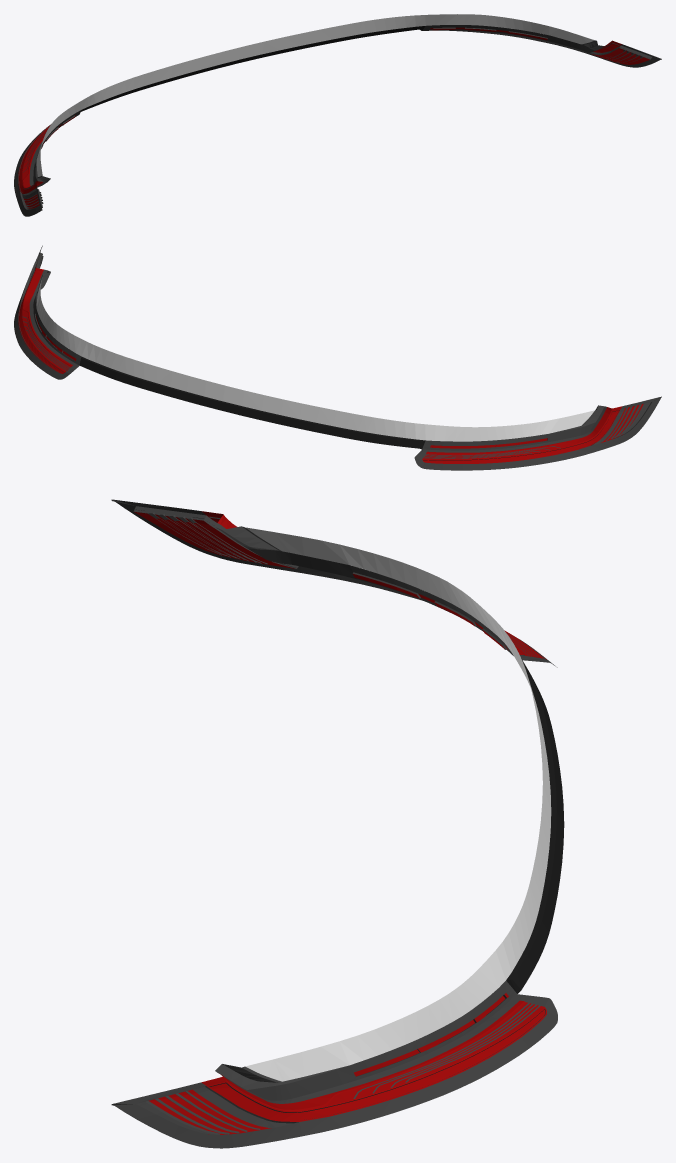
Rendered from fascia_mid.glb.
The picture shows the model from 3 angles, top to bottom: view 1: azimuth 30°, elevation 25°; view 2: azimuth 150°, elevation 25°; view 3: azimuth 270°, elevation 25°; orthographic projection. The views are drawn at different scales.
Parts seen in each view (by area): view 1: TwiXeR_992_fascia_mid_TwiXeR_992_taillight_running.001_0, TwiXeR_992_fascia_mid_TwiXeR_992_plastic_smooth.001_0, TwiXeR_992_fascia_mid_TwiXeR_992_brakelight_1.002_0, TwiXeR_992_fascia_mid_TwiXeR_992_chrome.003_0; view 2: TwiXeR_992_fascia_mid_TwiXeR_992_taillight_running.001_0, TwiXeR_992_fascia_mid_TwiXeR_992_plastic_smooth.001_0, TwiXeR_992_fascia_mid_TwiXeR_992_brakelight_1.002_0, TwiXeR_992_fascia_mid_TwiXeR_992_chrome.003_0; view 3: TwiXeR_992_fascia_mid_TwiXeR_992_plastic_smooth.001_0, TwiXeR_992_fascia_mid_TwiXeR_992_taillight_running.001_0, TwiXeR_992_fascia_mid_TwiXeR_992_brakelight_1.002_0, TwiXeR_992_fascia_mid_TwiXeR_992_chrome.003_0.
Part boxes in pixels (box(x1,y1,x2,y2)): TwiXeR_992_fascia_mid_TwiXeR_992_taillight_running.001_0: box(36, 14, 594, 176); TwiXeR_992_fascia_mid_TwiXeR_992_plastic_smooth.001_0: box(14, 25, 661, 216); TwiXeR_992_fascia_mid_TwiXeR_992_brakelight_1.002_0: box(18, 27, 649, 208); TwiXeR_992_fascia_mid_TwiXeR_992_chrome.003_0: box(81, 26, 425, 111); TwiXeR_992_fascia_mid_TwiXeR_992_taillight_running.001_0: box(36, 277, 594, 441); TwiXeR_992_fascia_mid_TwiXeR_992_plastic_smooth.001_0: box(14, 245, 661, 470); TwiXeR_992_fascia_mid_TwiXeR_992_brakelight_1.002_0: box(18, 266, 643, 463); TwiXeR_992_fascia_mid_TwiXeR_992_chrome.003_0: box(79, 357, 425, 449); TwiXeR_992_fascia_mid_TwiXeR_992_plastic_smooth.001_0: box(111, 499, 557, 1148); TwiXeR_992_fascia_mid_TwiXeR_992_taillight_running.001_0: box(246, 527, 551, 1081); TwiXeR_992_fascia_mid_TwiXeR_992_brakelight_1.002_0: box(134, 511, 546, 1134); TwiXeR_992_fascia_mid_TwiXeR_992_chrome.003_0: box(506, 658, 564, 993).
Bounding box in the file's own units: 1.62 × 0.0903 × 0.5126.
